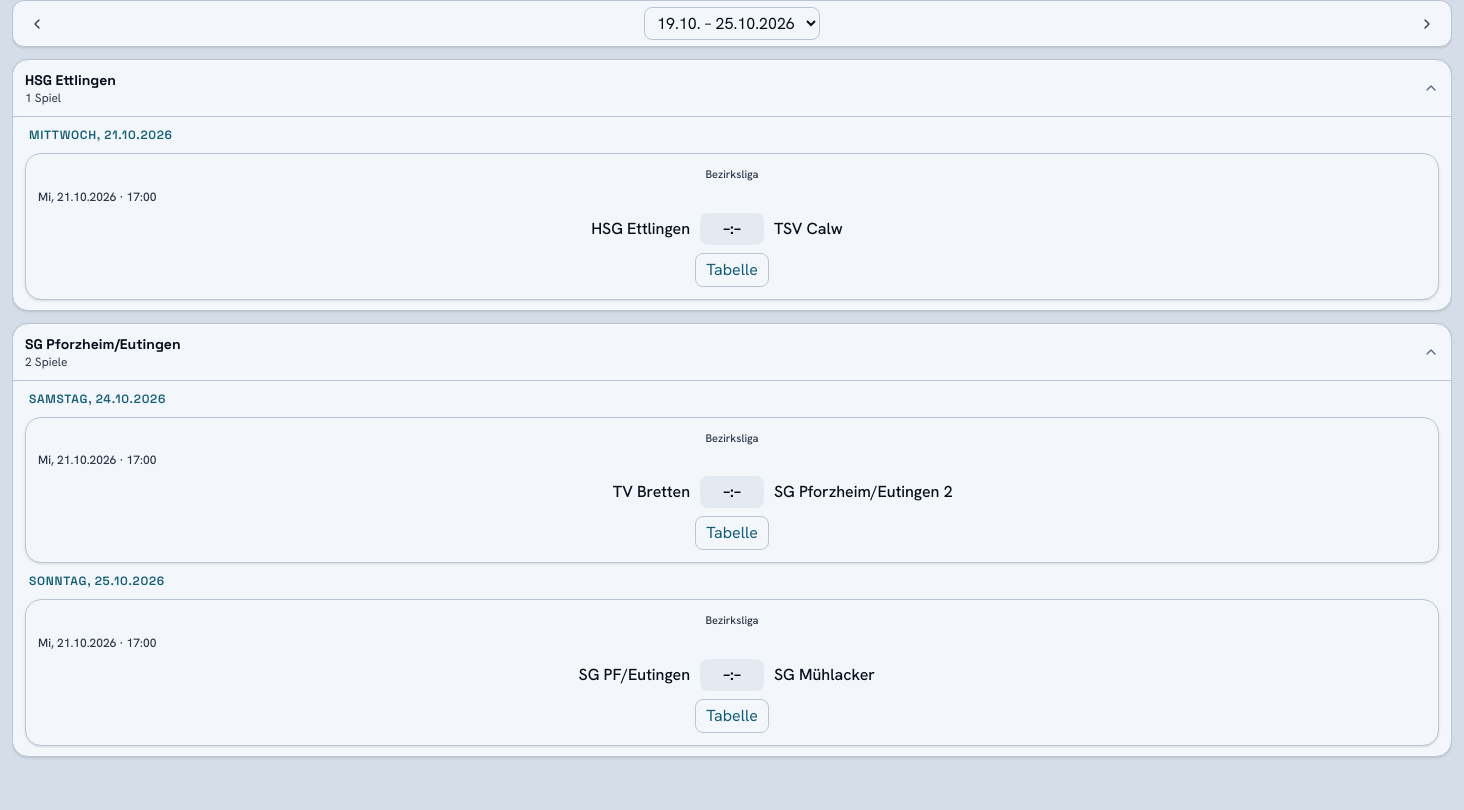
it: SpielwocheView › klappt Gruppen auf und zu
The width and height of the screenshot is (1464, 810).
Check: the text "TSV Calw" is shown, box x1=774 y1=218 x2=843 y2=238
Click the button "HSG Ettlingen 1 Spiel" at (70, 80), box x1=13 y1=60 x2=1451 y2=116
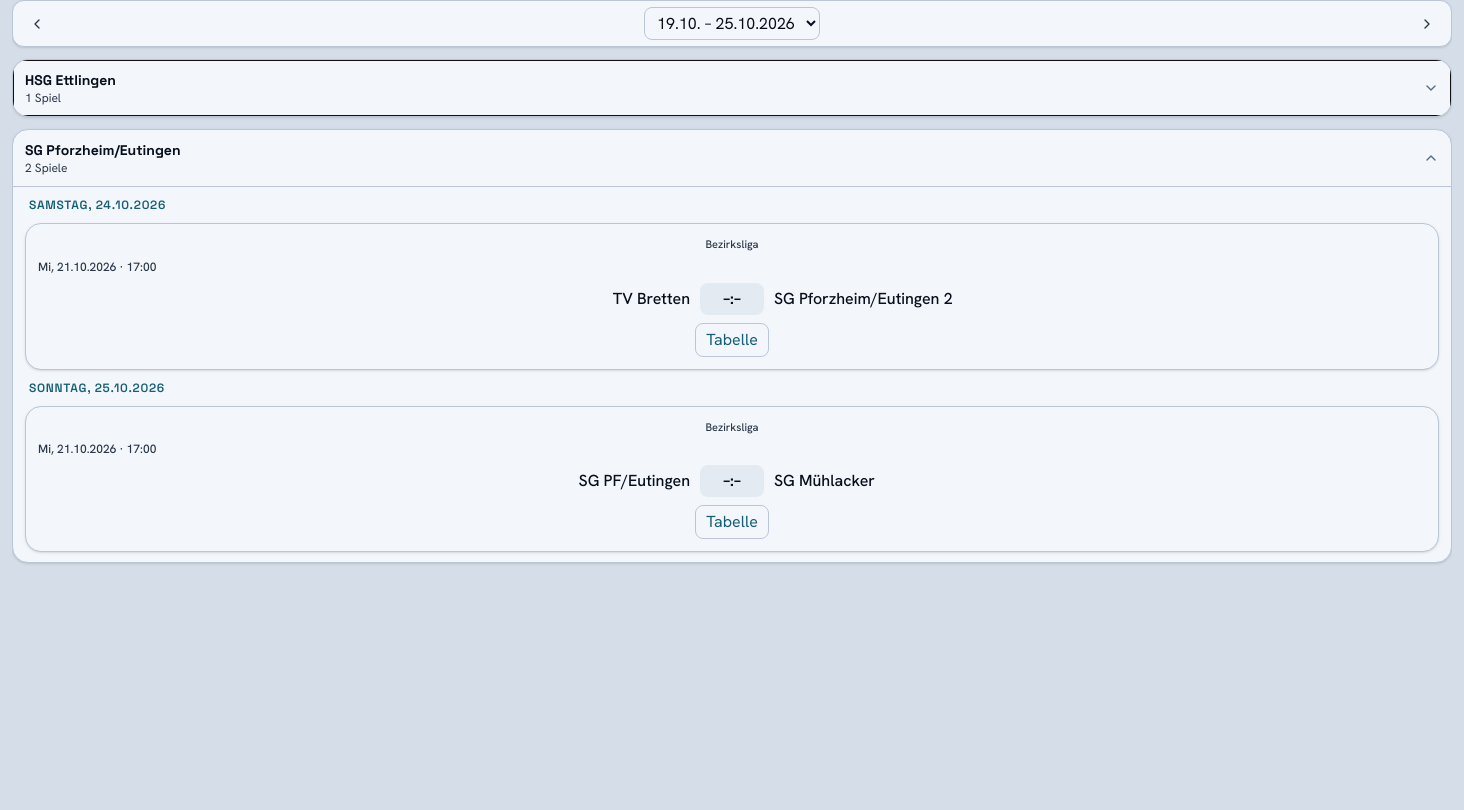
Check: the text "TSV Calw" is gone
Click the button "HSG Ettlingen 1 Spiel" at (70, 80), box x1=13 y1=60 x2=1451 y2=116
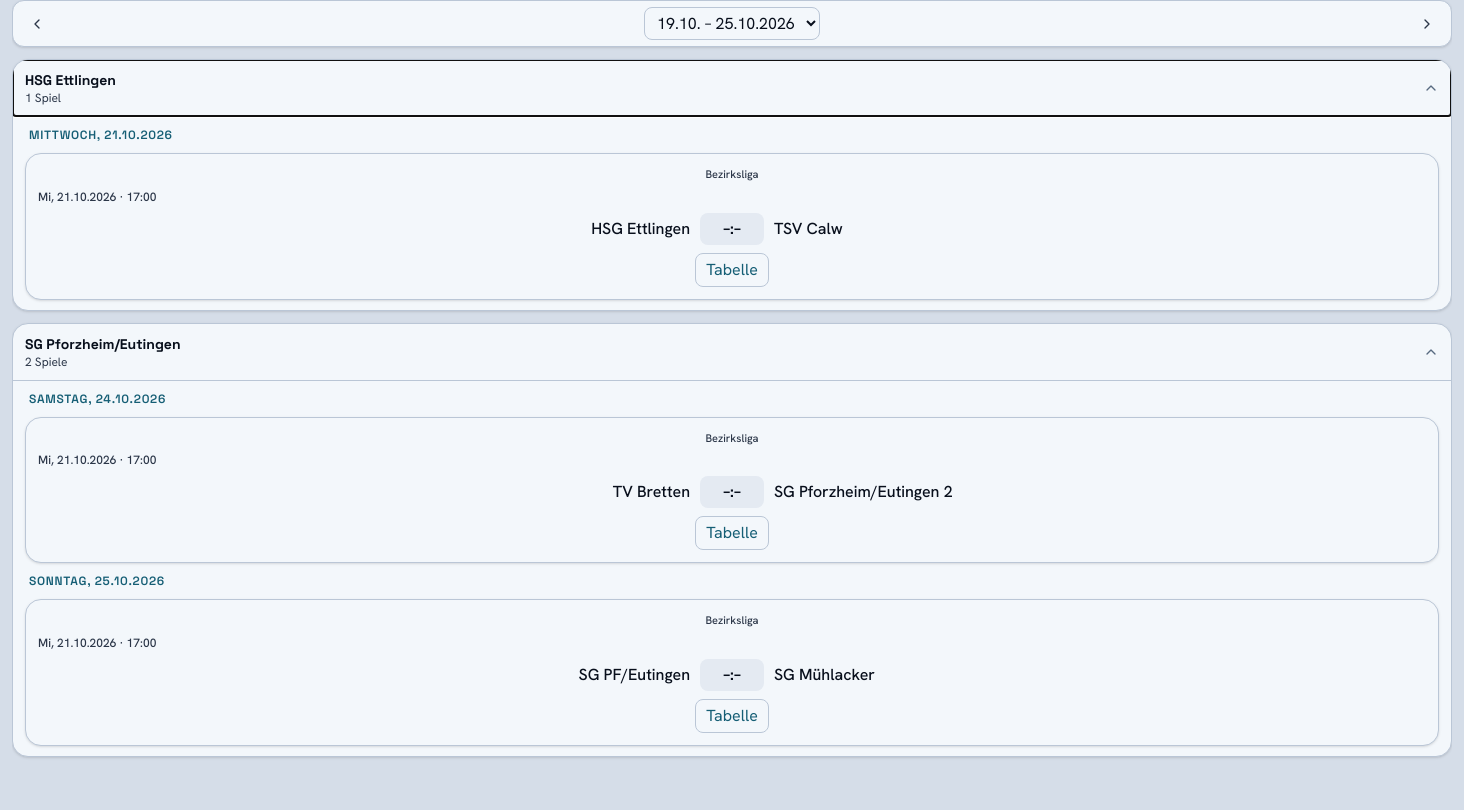
Check: the text "TSV Calw" is shown, box x1=774 y1=218 x2=843 y2=238
